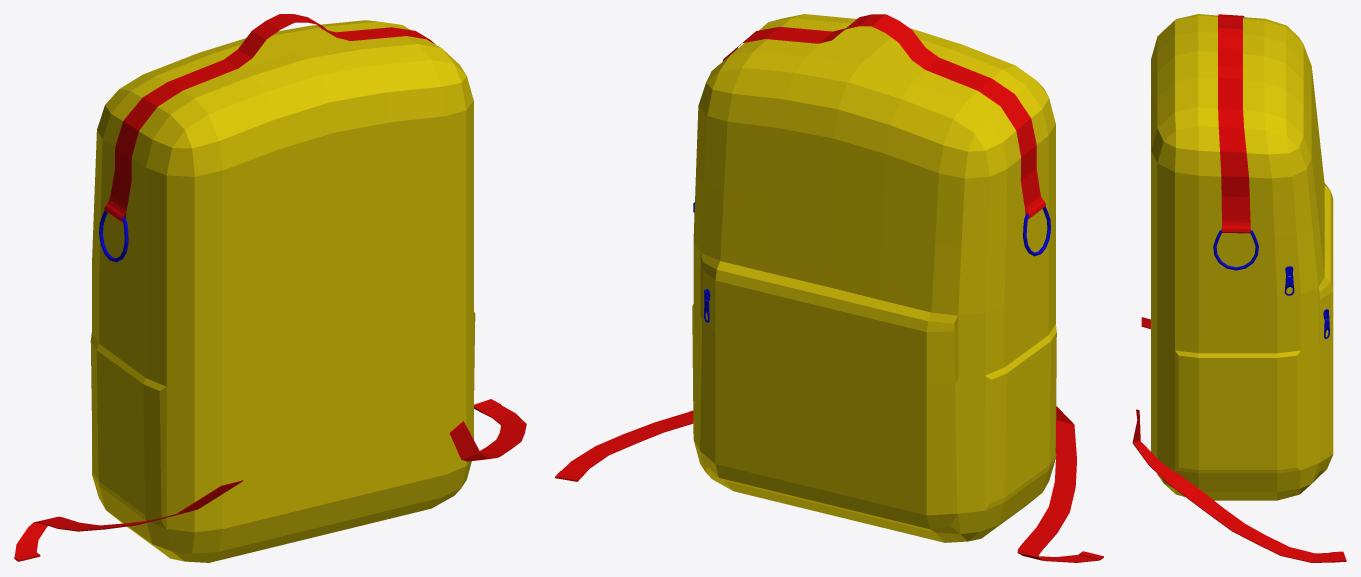
Rendered from Backpack.fbx.
3 views of the same model, side by side, from view 1: azimuth 30°, elevation 25°; view 2: azimuth 150°, elevation 25°; view 3: azimuth 270°, elevation 25° (orthographic). The views are drawn at different scales.
Visible parts, largest first — view 1: Cube; view 2: Cube; view 3: Cube.
Part boxes in pixels (x1,y1,x2,y2): Cube: [14, 14, 526, 562]; Cube: [555, 14, 1103, 562]; Cube: [1132, 14, 1346, 562].
Size of the model in its own units: 38.78 by 35.05 by 16.08.
